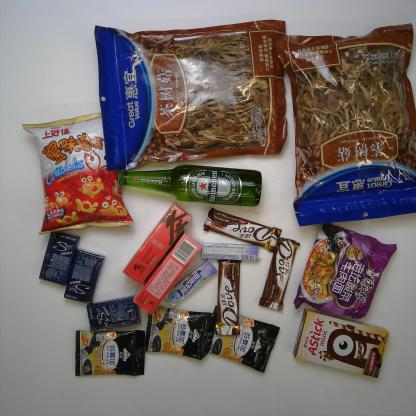Alcohol: (116, 163, 263, 208)
Candy: (164, 258, 219, 309), (200, 242, 260, 262)
Chocolate: (202, 206, 282, 253), (258, 236, 301, 313), (214, 260, 242, 338)
Dessert: (291, 307, 391, 380)
Dried Food: (93, 17, 289, 173), (273, 21, 416, 228)
Gum: (37, 230, 82, 287), (63, 247, 106, 304), (85, 294, 143, 332)
Instant Drink: (132, 230, 203, 317), (121, 202, 193, 286), (209, 304, 281, 374), (145, 305, 216, 362), (74, 328, 146, 377)
Instant Noodles: (293, 221, 398, 321)
Puffed Food: (22, 111, 135, 236)
